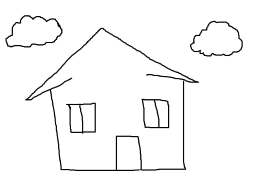closed_window: (140, 98, 171, 130), (67, 103, 95, 133)
clouds: (188, 18, 245, 57), (4, 15, 63, 49)
door: (112, 131, 147, 173)
single_line_roof: (25, 26, 199, 100)
wall: (50, 80, 190, 176)
